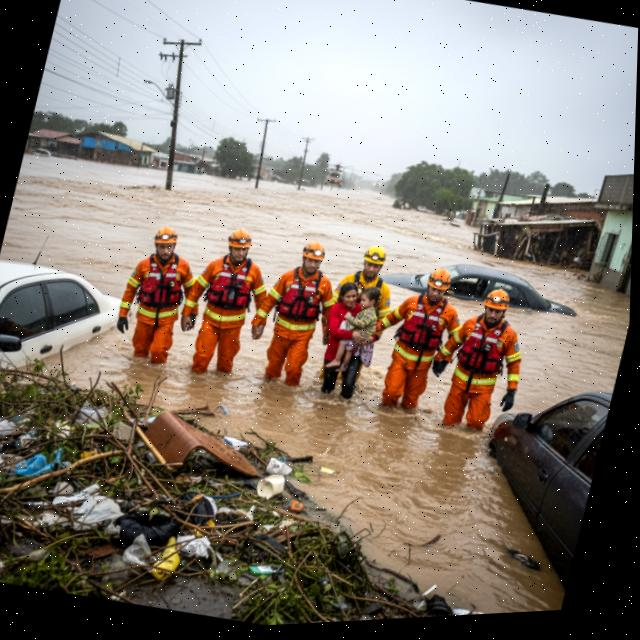civilian: (309, 272, 386, 405), (323, 279, 383, 379)
rescuer: (420, 268, 546, 448), (170, 213, 278, 384), (240, 225, 346, 398), (359, 256, 464, 421), (302, 234, 399, 408), (104, 211, 205, 370)
